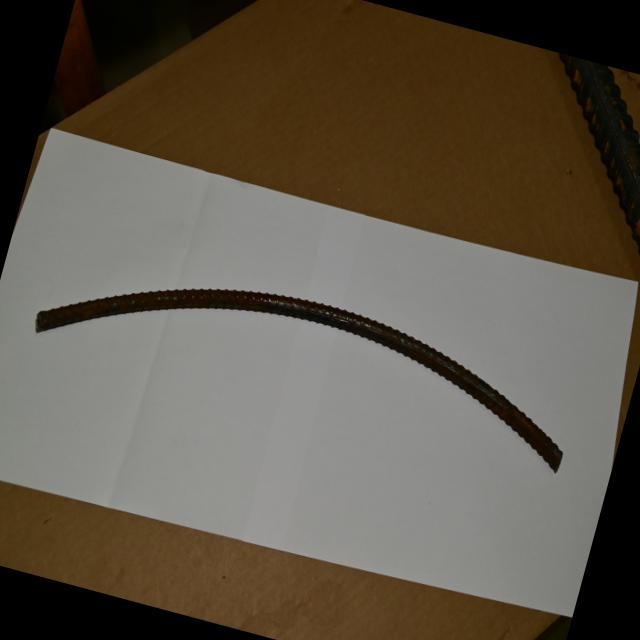ribbed bar: (28, 228, 588, 480), (505, 54, 640, 296)
